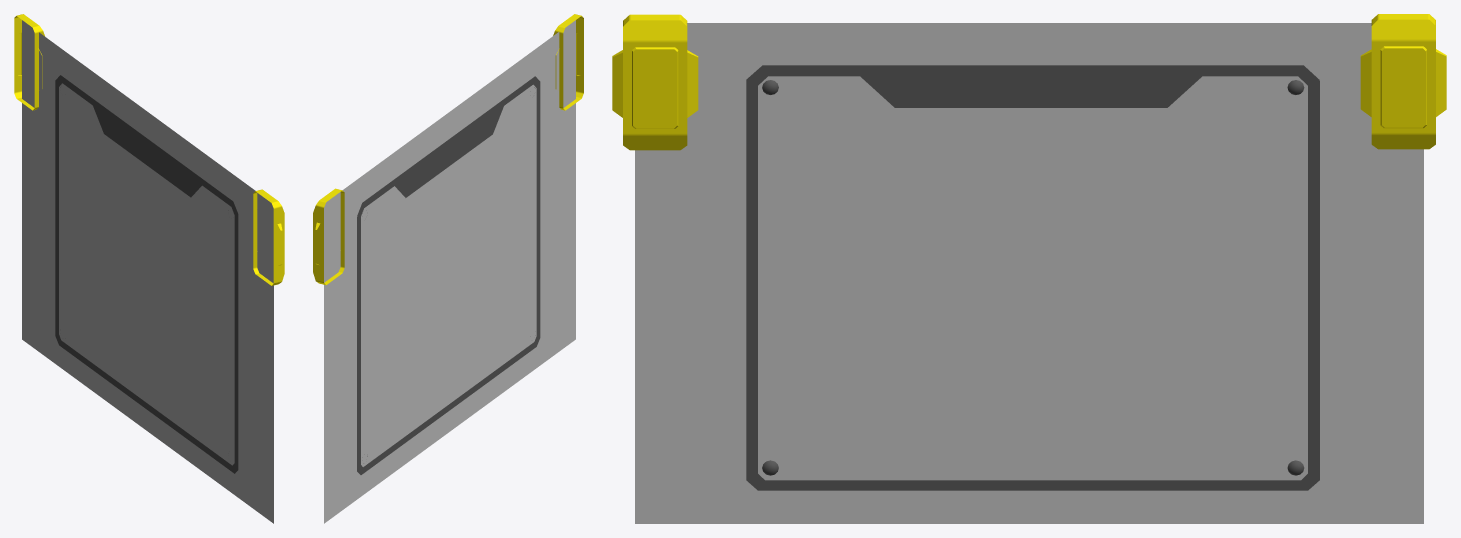
The model's file is Building_Wall_04g_Cut_Out_snaps016.FBX.
3 views of the same model, side by side, from view 1: azimuth 30°, elevation 25°; view 2: azimuth 150°, elevation 25°; view 3: azimuth 270°, elevation 25° (orthographic). The views are drawn at different scales.
Visible parts, largest first — view 1: Building_Wall_04g_Cut_Out_snaps016_LOD0; view 2: Building_Wall_04g_Cut_Out_snaps016_LOD0; view 3: Building_Wall_04g_Cut_Out_snaps016_LOD0.
Part boxes in pixels (x1=…): Building_Wall_04g_Cut_Out_snaps016_LOD0: x1=14, y1=14, x2=284, y2=523; Building_Wall_04g_Cut_Out_snaps016_LOD0: x1=313, y1=14, x2=583, y2=523; Building_Wall_04g_Cut_Out_snaps016_LOD0: x1=612, y1=14, x2=1446, y2=523.
Size of what is drawn, in the model's own units: 0.0819 by 2.13 by 3.17.
